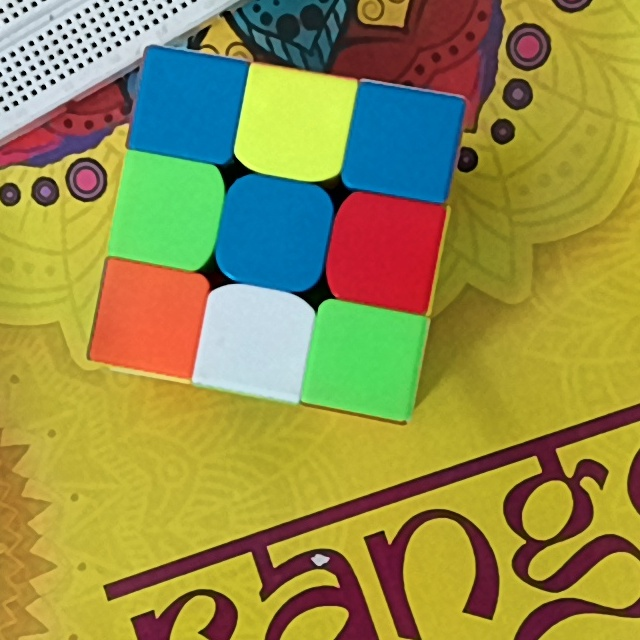tile: (358, 98, 449, 183), (319, 318, 407, 403), (346, 205, 429, 292), (251, 80, 340, 161), (106, 275, 191, 359), (123, 171, 212, 251), (209, 304, 298, 383), (148, 63, 229, 148), (232, 195, 319, 274)
